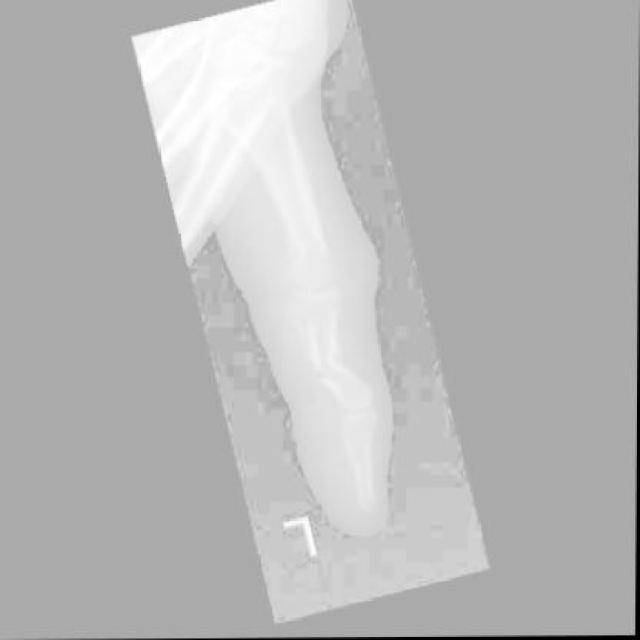Fracture: (293, 317, 352, 395)
